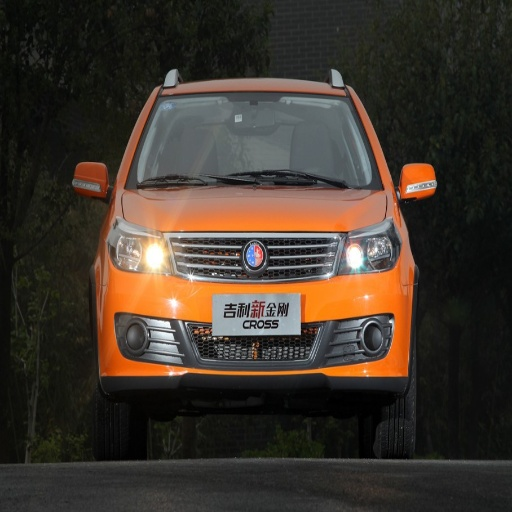front_bumper: (107, 232, 412, 390)
front_right_light: (107, 222, 171, 273)
hood: (119, 189, 388, 231)
left_mirror: (400, 162, 438, 203)
